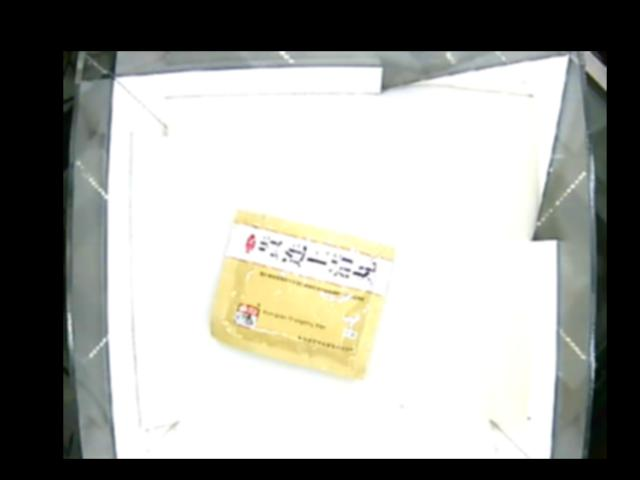Medicine: (210, 210, 392, 378)
